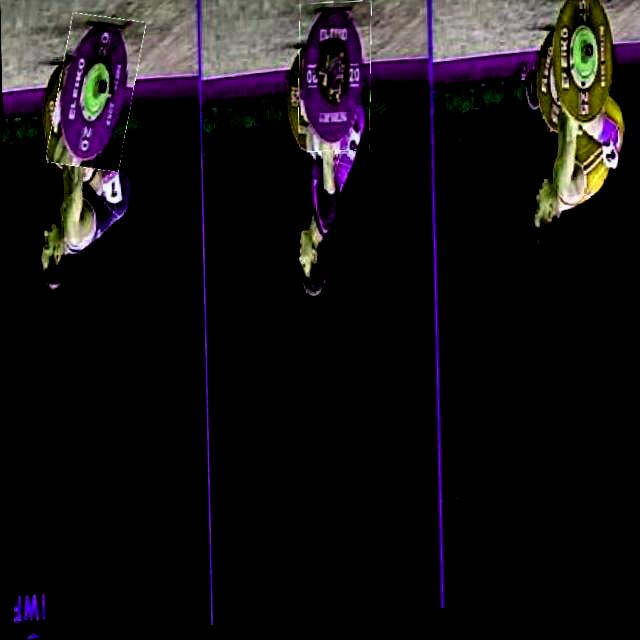barbell: (50, 13, 141, 175), (297, 6, 372, 158), (547, 1, 617, 140)
